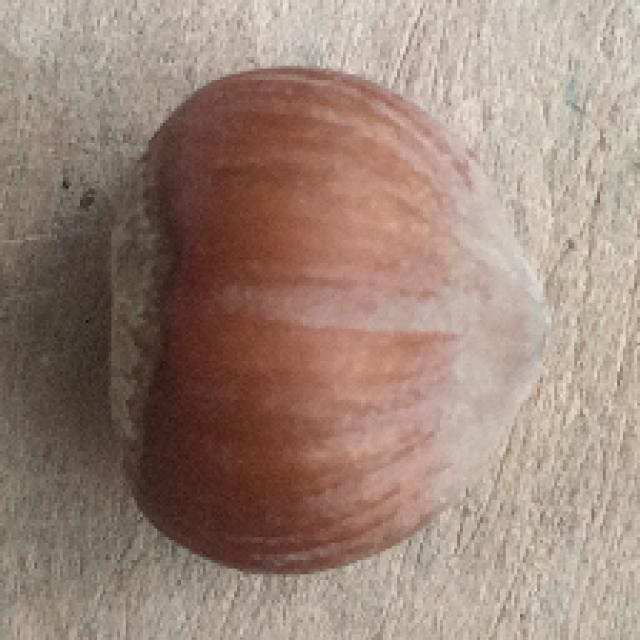QualityHazelnut: (102, 63, 553, 582)
